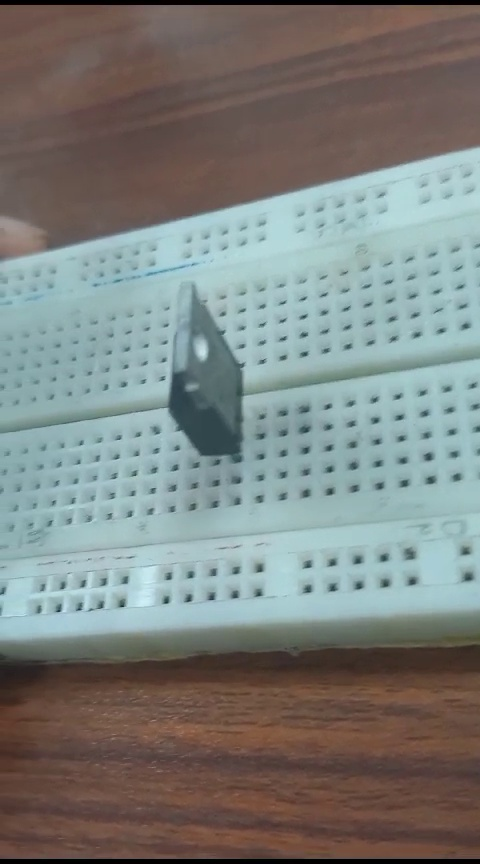voltage regulator: (146, 280, 260, 475)
